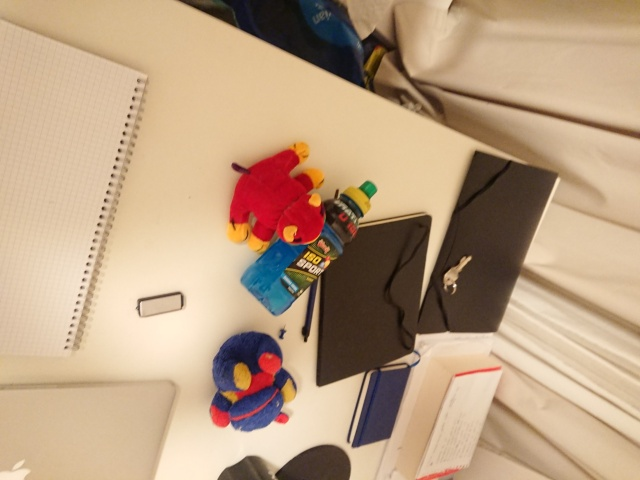Vindi Iso Sport Forest Strawberries 500mL: (238, 178, 378, 317)
